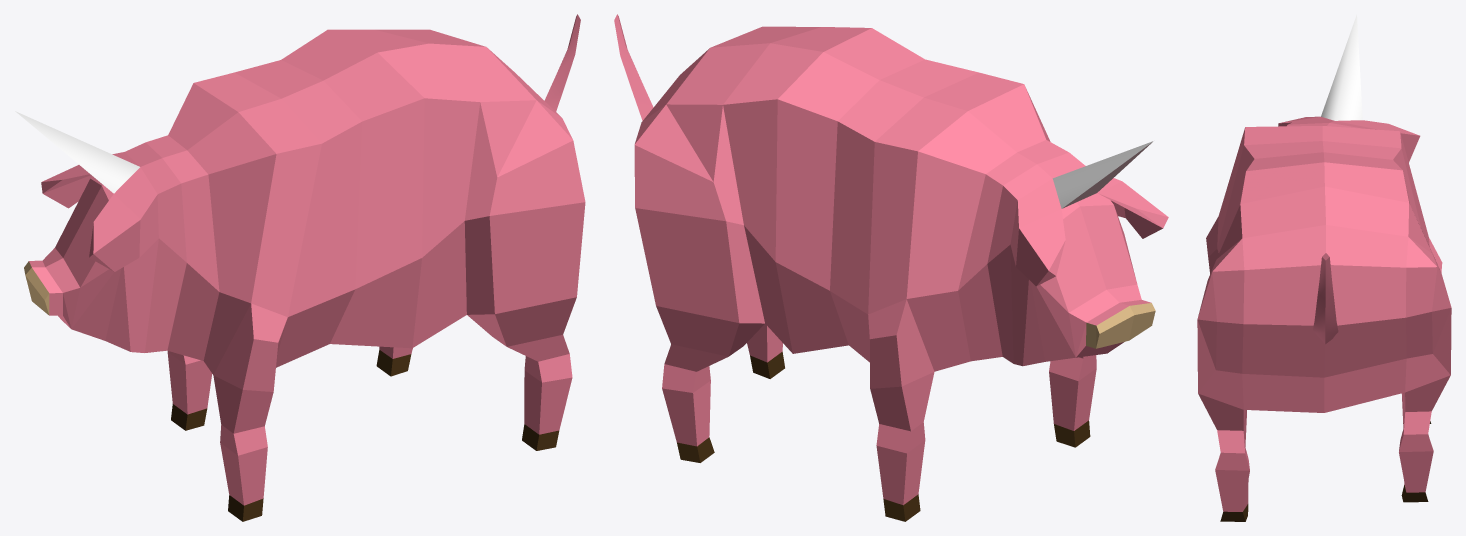
The model's file is pigRunning3.obj.
3 renders of one model, left to right at view 1: azimuth 30°, elevation 25°; view 2: azimuth 150°, elevation 25°; view 3: azimuth 270°, elevation 25°, orthographic. The views are drawn at different scales.
Visible parts, largest first — view 1: Pig_Cylinder.002_Pig_Cylinder.003; view 2: Pig_Cylinder.002_Pig_Cylinder.003; view 3: Pig_Cylinder.002_Pig_Cylinder.003.
Part boxes in pixels (box(x1,y1,x2,y2)): Pig_Cylinder.002_Pig_Cylinder.003: box(15, 14, 585, 521); Pig_Cylinder.002_Pig_Cylinder.003: box(614, 14, 1168, 521); Pig_Cylinder.002_Pig_Cylinder.003: box(1197, 14, 1451, 521).
Bounding box in the file's own units: 22.82 × 15.6 × 11.11.
